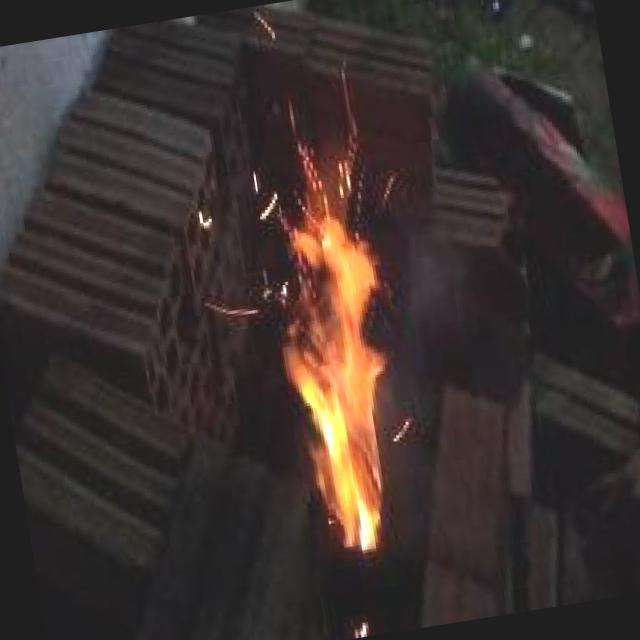fire: (175, 137, 470, 612)
